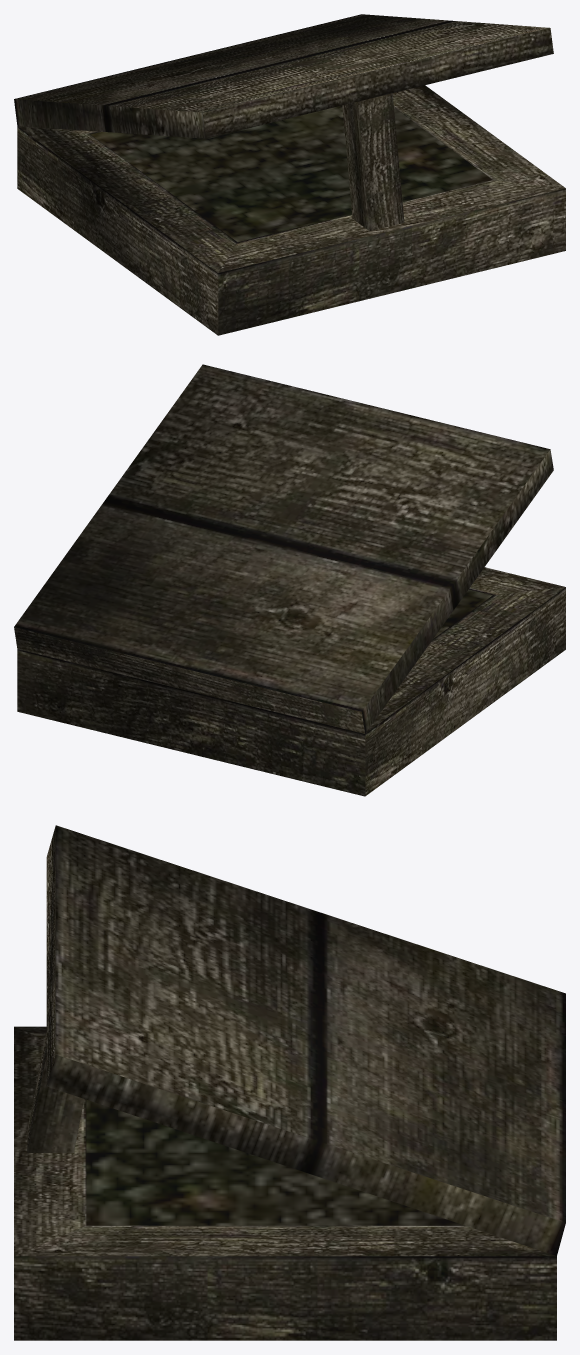
Rendered from OC_CHIMNEY_V1.glb.
3 renders of one model, top to bottom at view 1: azimuth 30°, elevation 25°; view 2: azimuth 150°, elevation 25°; view 3: azimuth 270°, elevation 25°, orthographic. The views are drawn at different scales.
Parts seen in each view (by area): view 1: Mesh; view 2: Mesh; view 3: Mesh.
Boxes of the visible parts, box(x1,y1,x2,y2) form: Mesh: box(14, 14, 565, 335); Mesh: box(14, 364, 565, 796); Mesh: box(14, 825, 565, 1340).
Size of the model in its own units: 0.8 by 0.4652 by 0.8133.
Materials: 2 (2 with a texture image).
